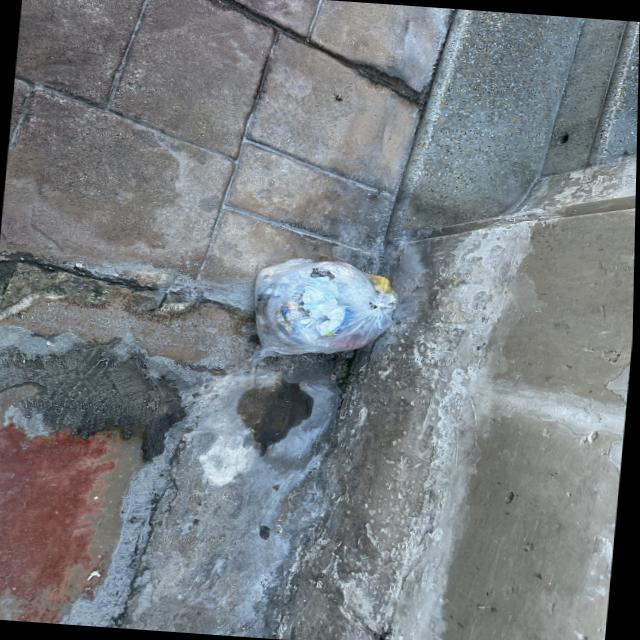Organic Waste -White Bags-: (253, 257, 400, 364)
